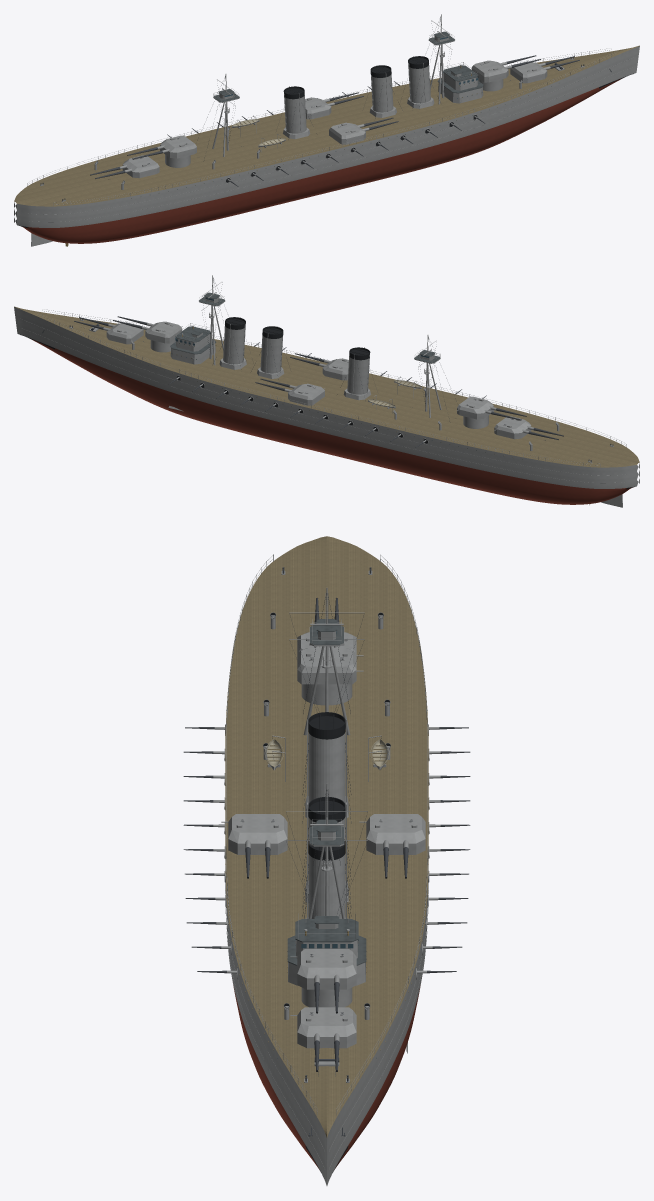
Rendered from courbet.glb.
3 renders of one model, top to bottom at view 1: azimuth 30°, elevation 25°; view 2: azimuth 150°, elevation 25°; view 3: azimuth 270°, elevation 25°, orthographic. The views are drawn at different scales.
Parts seen in each view (by area): view 1: Courbet class; view 2: Courbet class; view 3: Courbet class.
Part boxes in pixels (x1,y1,x2,y2): Courbet class: [14, 14, 639, 246]; Courbet class: [14, 275, 639, 507]; Courbet class: [183, 536, 470, 1185].
Size of the model in its own units: 185 by 38.23 by 36.88.
9 materials, 8 textured.
